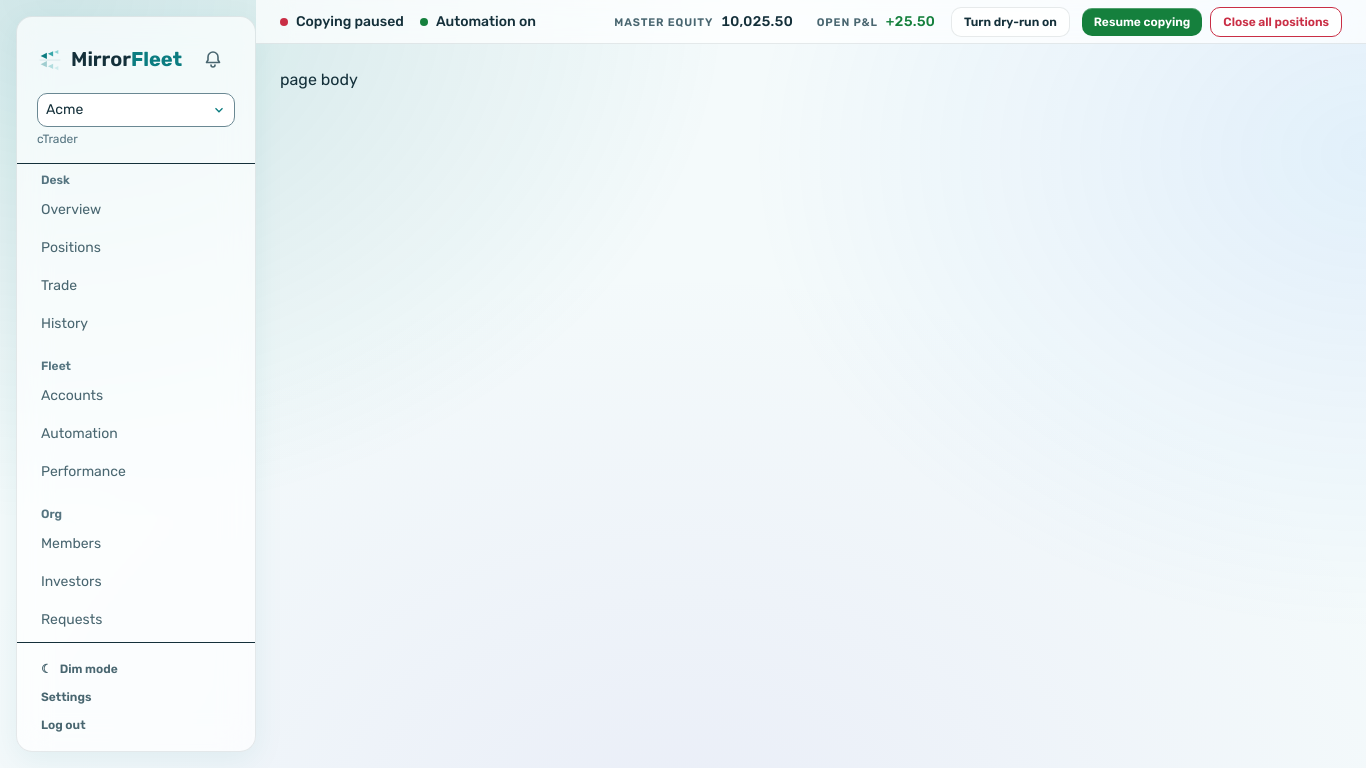
Test: the strip kill switch resume: cancelling the dialog sends nothing
This screenshot has width=1366, height=768.
Click the button "Resume copying".
click(1142, 22)  # box left=1082, top=8, right=1202, bottom=36
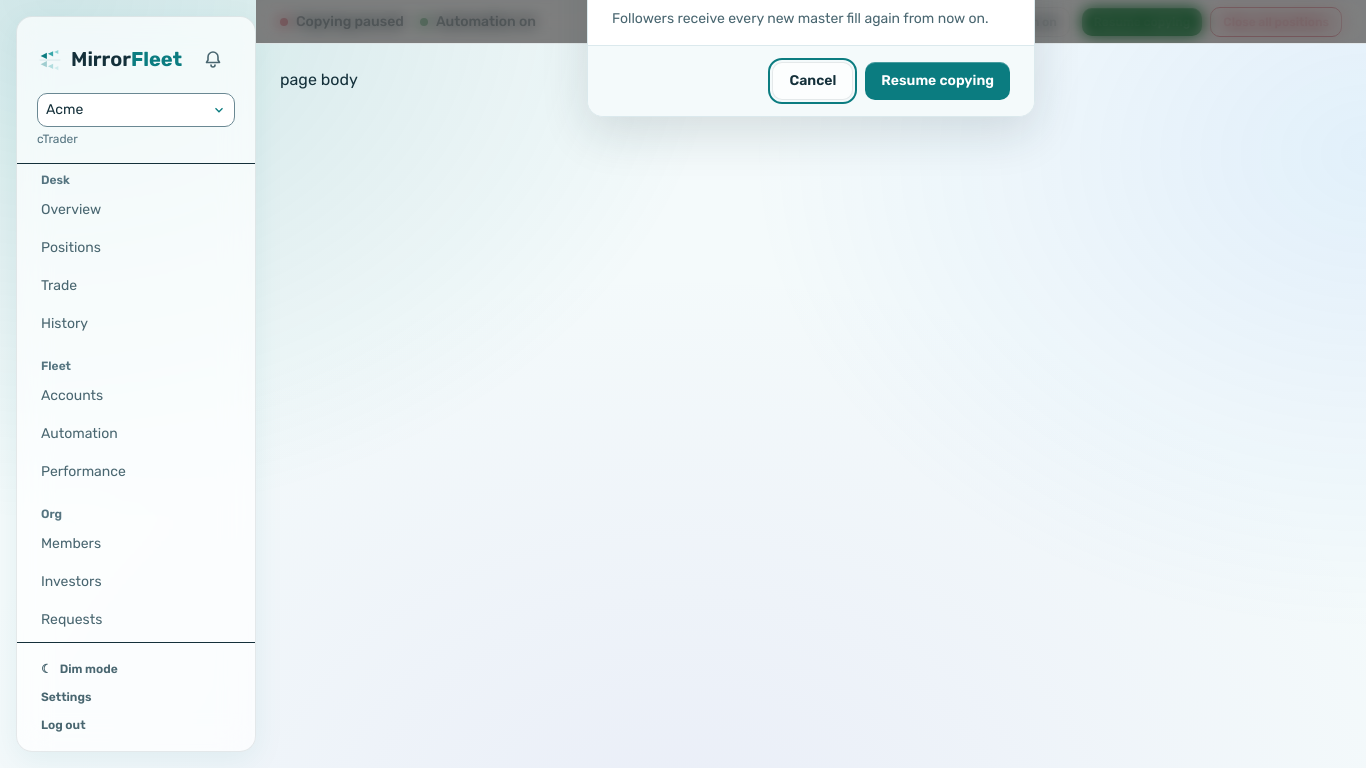
Click the button "Cancel".
click(813, 80)  # box left=772, top=62, right=853, bottom=100
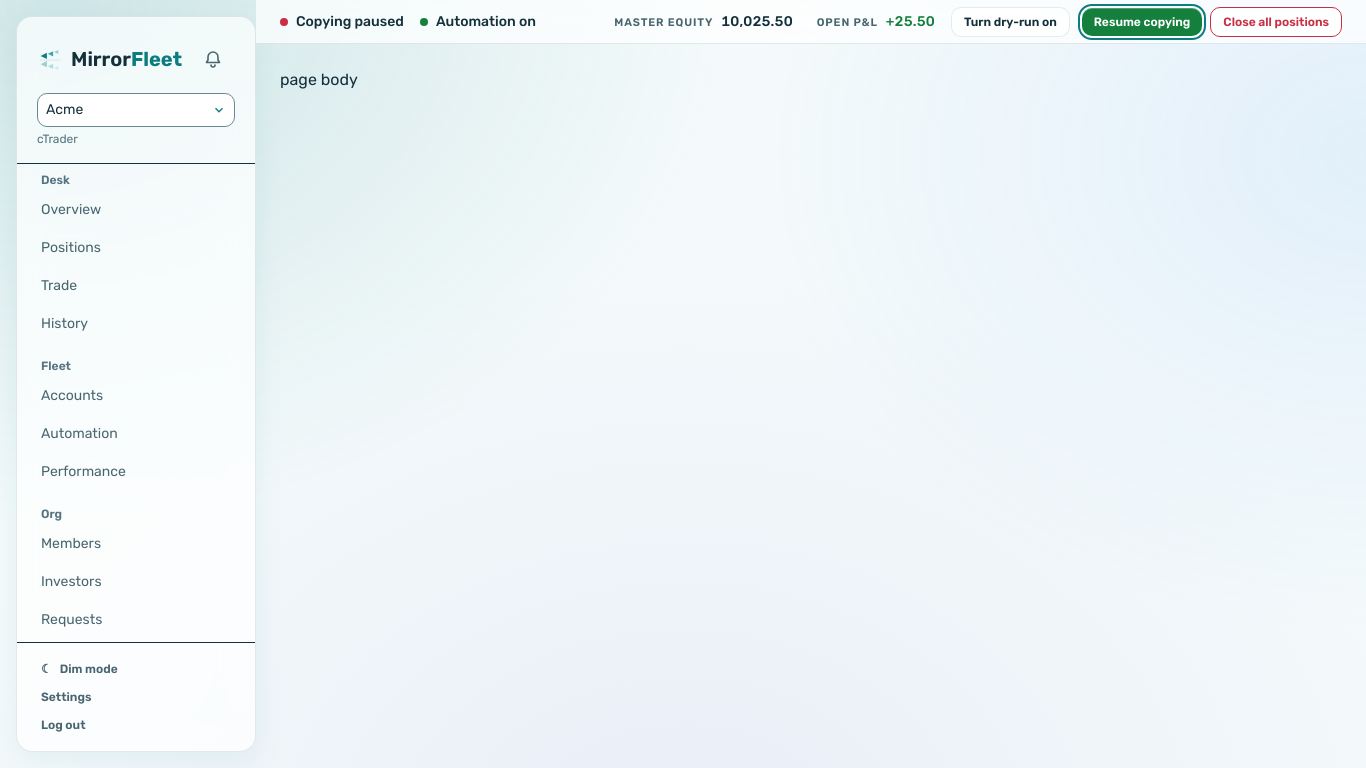
Expected: the dialog is gone
